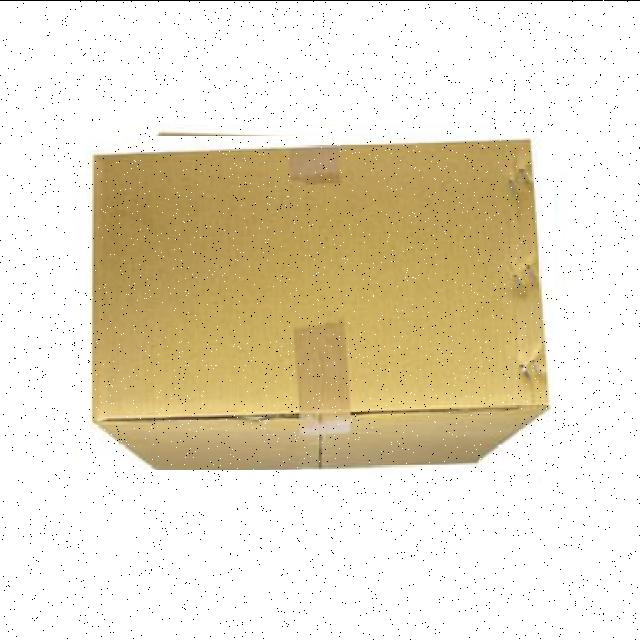normal: (84, 136, 554, 470)
